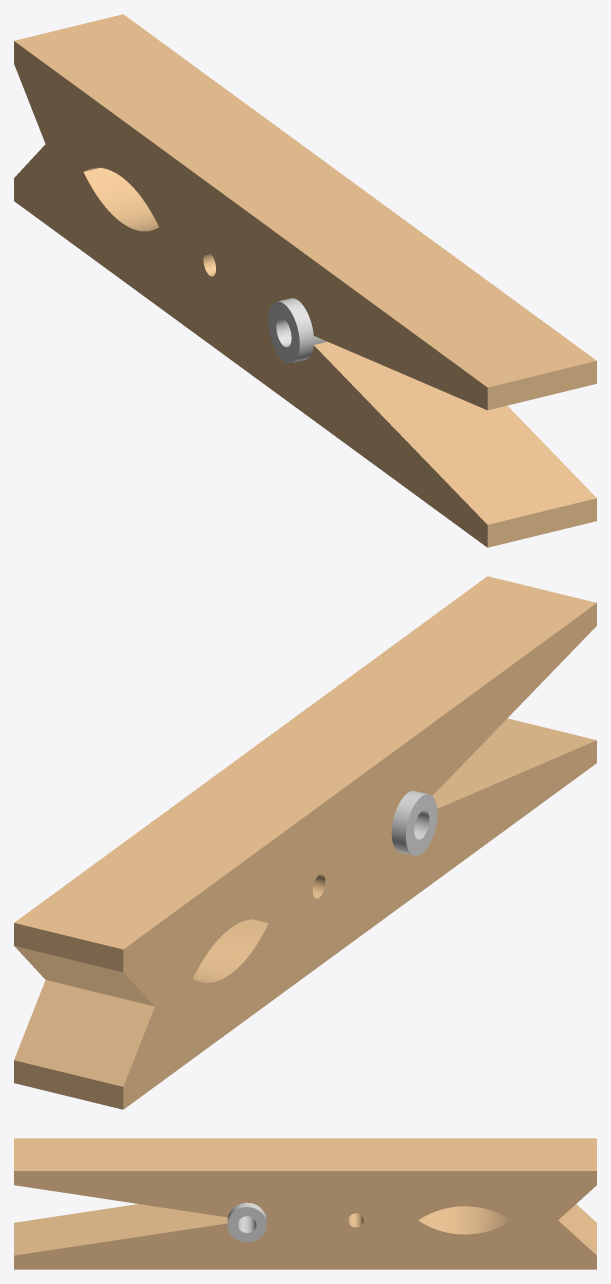
3 renders of one model, top to bottom at view 1: azimuth 30°, elevation 25°; view 2: azimuth 150°, elevation 25°; view 3: azimuth 270°, elevation 25°, orthographic. The views are drawn at different scales.
Parts seen in each view (by area): view 1: out-top, out-bottom, out-spring; view 2: out-top, out-bottom, out-spring; view 3: out-top, out-bottom, out-spring.
Part boxes in pixels (box(x1,y1,x2,y2)): out-top: box(14, 14, 596, 410); out-bottom: box(14, 144, 596, 547); out-spring: box(268, 298, 327, 363); out-top: box(14, 576, 596, 1006); out-bottom: box(14, 718, 596, 1109); out-spring: box(391, 790, 437, 855); out-top: box(14, 1138, 596, 1220); out-bottom: box(14, 1204, 596, 1269); out-spring: box(227, 1202, 266, 1242).
Bounding box in the file's own units: 0.0126 × 0.014 × 0.075.
